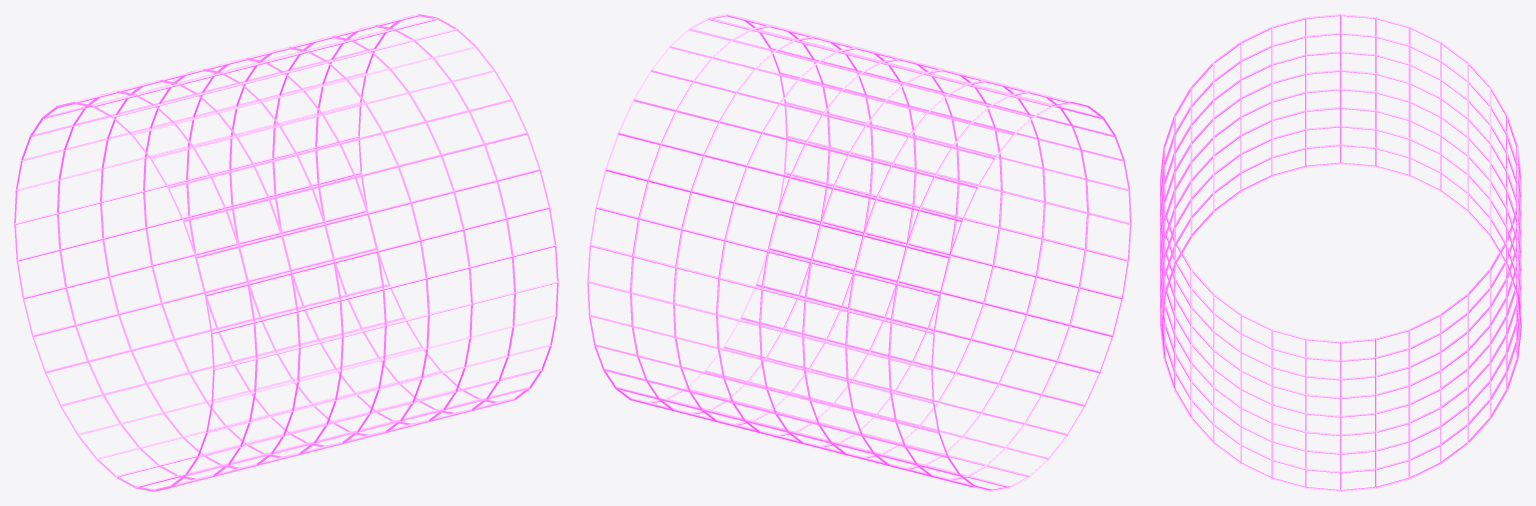
The model's file is Cylinderfbx.fbx.
3 views of the same model, side by side, from view 1: azimuth 30°, elevation 25°; view 2: azimuth 150°, elevation 25°; view 3: azimuth 270°, elevation 25° (orthographic). The views are drawn at different scales.
Parts seen in each view (by area): view 1: Cylinder; view 2: Cylinder; view 3: Cylinder.
Part boxes in pixels (x1,y1,x2,y2): Cylinder: (14,14,558,491); Cylinder: (587,14,1131,491); Cylinder: (1160,14,1521,491).
Size of the model in its own units: 202 by 203 by 201.
